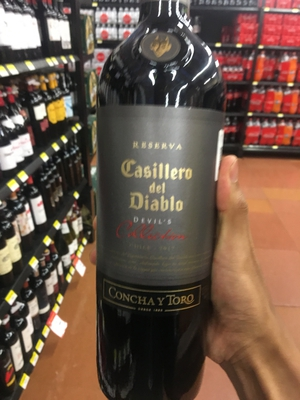casillero del diablo devils collection rojo: (89, 18, 229, 400)
